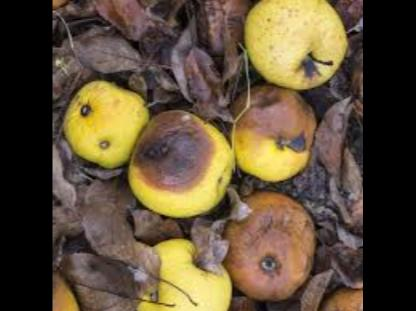defect: (212, 188, 342, 310), (123, 107, 224, 196), (216, 88, 338, 153)
